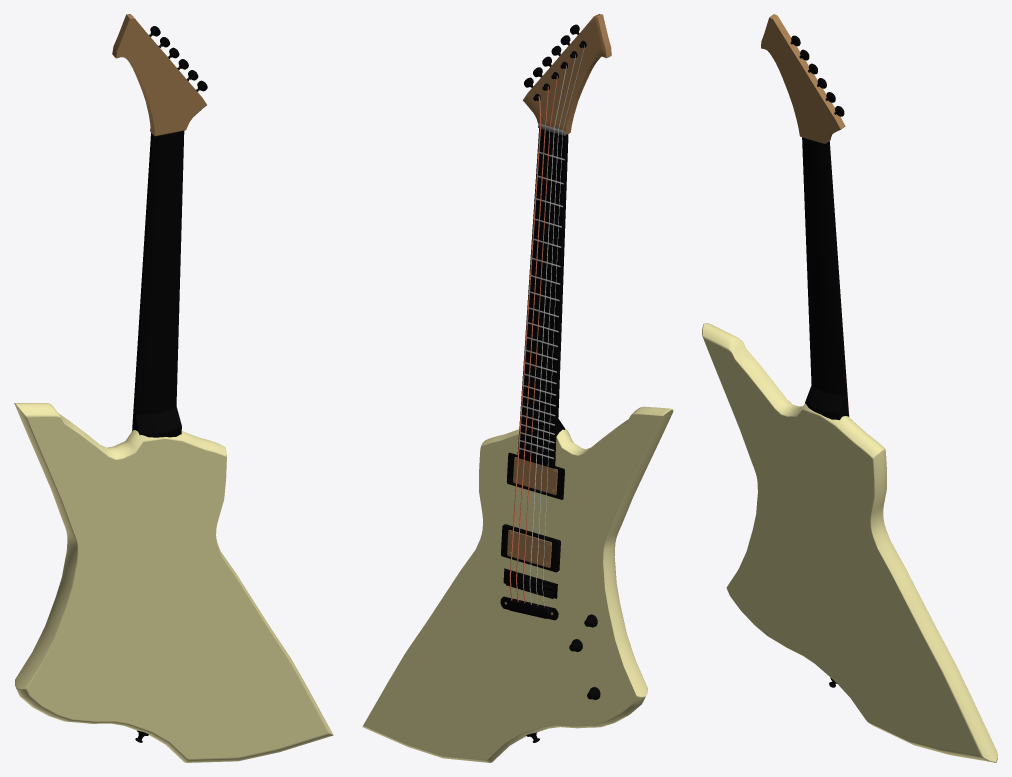
Rendered from _etfield.fbx.
The picture shows the model from 3 angles, left to right: view 1: azimuth 30°, elevation 25°; view 2: azimuth 150°, elevation 25°; view 3: azimuth 330°, elevation 25°; orthographic projection. The views are drawn at different scales.
Parts seen in each view (by area): view 1: Body_James_Hetfield, Nut.001; view 2: Body_James_Hetfield, Nut.001, BezierCurve, Plane, Plane.004, Saddle.001, Plane.002; view 3: Body_James_Hetfield, Nut.001.
Part boxes in pixels (<box>): Body_James_Hetfield: <box>14,403,333,762</box>; Nut.001: <box>112,14,207,437</box>; Body_James_Hetfield: <box>362,406,673,762</box>; Nut.001: <box>517,14,611,496</box>; BezierCurve: <box>509,45,584,607</box>; Plane: <box>501,524,560,572</box>; Plane.004: <box>506,452,564,499</box>; Saddle.001: <box>503,568,557,598</box>; Plane.002: <box>500,596,558,620</box>; Body_James_Hetfield: <box>702,323,997,762</box>; Nut.001: <box>761,14,848,420</box>.
Size of the model in its own units: 128 by 303 by 30.33.
